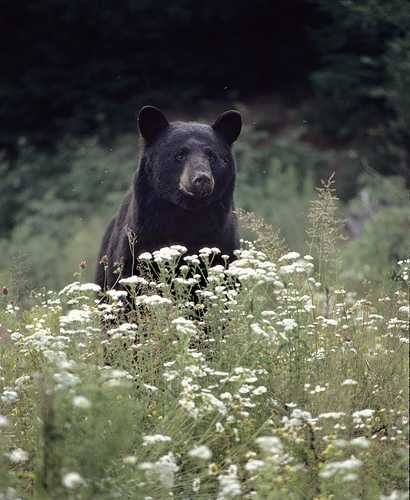bear: (129, 96, 257, 224)
